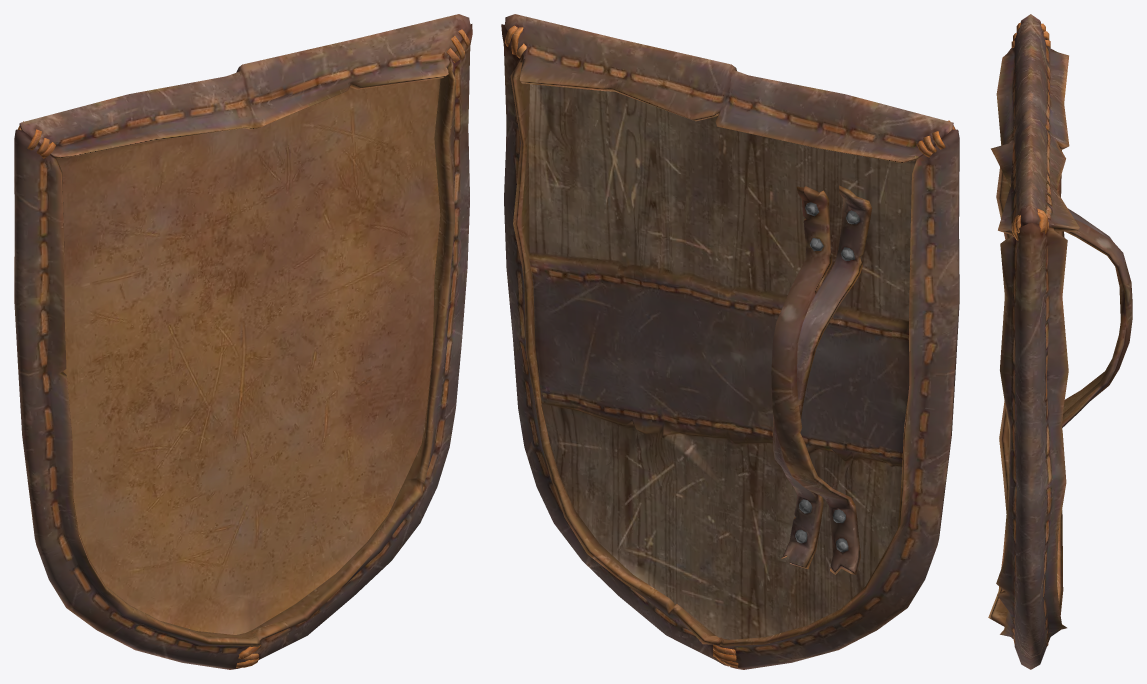
The picture shows the model from 3 angles, left to right: view 1: azimuth 30°, elevation 25°; view 2: azimuth 150°, elevation 25°; view 3: azimuth 270°, elevation 25°; orthographic projection. The views are drawn at different scales.
Visible parts, largest first — view 1: SM_Kite_Leather_1H_01_LOD0; view 2: SM_Kite_Leather_1H_01_LOD0; view 3: SM_Kite_Leather_1H_01_LOD0.
Part boxes in pixels (x1,y1,x2,y2): SM_Kite_Leather_1H_01_LOD0: (14,14,472,669); SM_Kite_Leather_1H_01_LOD0: (501,14,959,669); SM_Kite_Leather_1H_01_LOD0: (988,14,1132,669).
Bounding box in the file's own units: 0.5089 × 0.6419 × 0.1532.
Materials: 1 (1 with a texture image).
